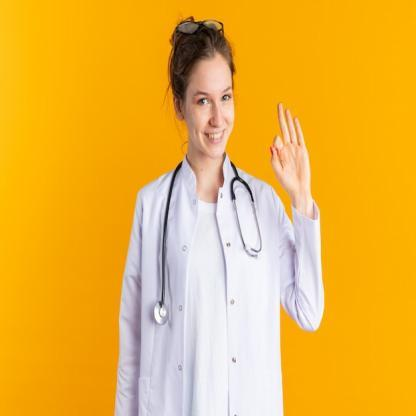ok: (264, 100, 320, 202)
